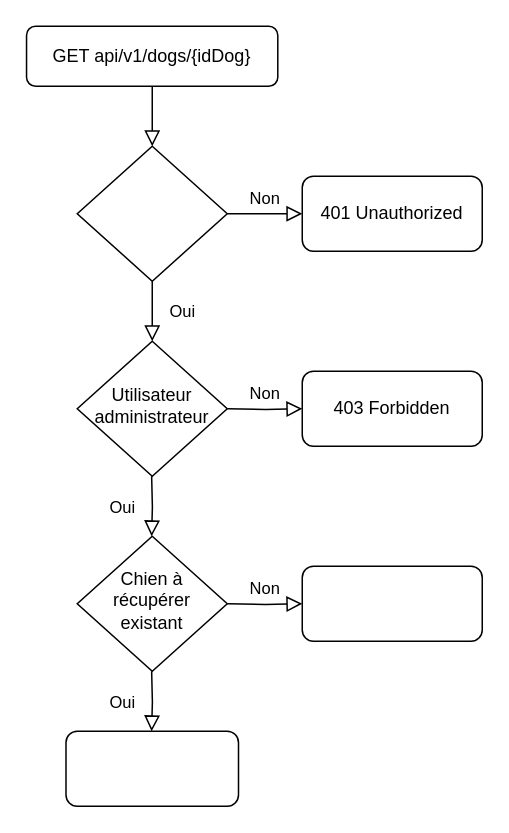
This 509x833 diagram has some shape labels left out. Here are the shapes that lost their labels. From the top down, the centre of each, then its label:
At (151,213): "Header Authorization présent".
At (391,603): "404 Not Found".
At (151,768): "200 OK Avec résultat en JSON".
